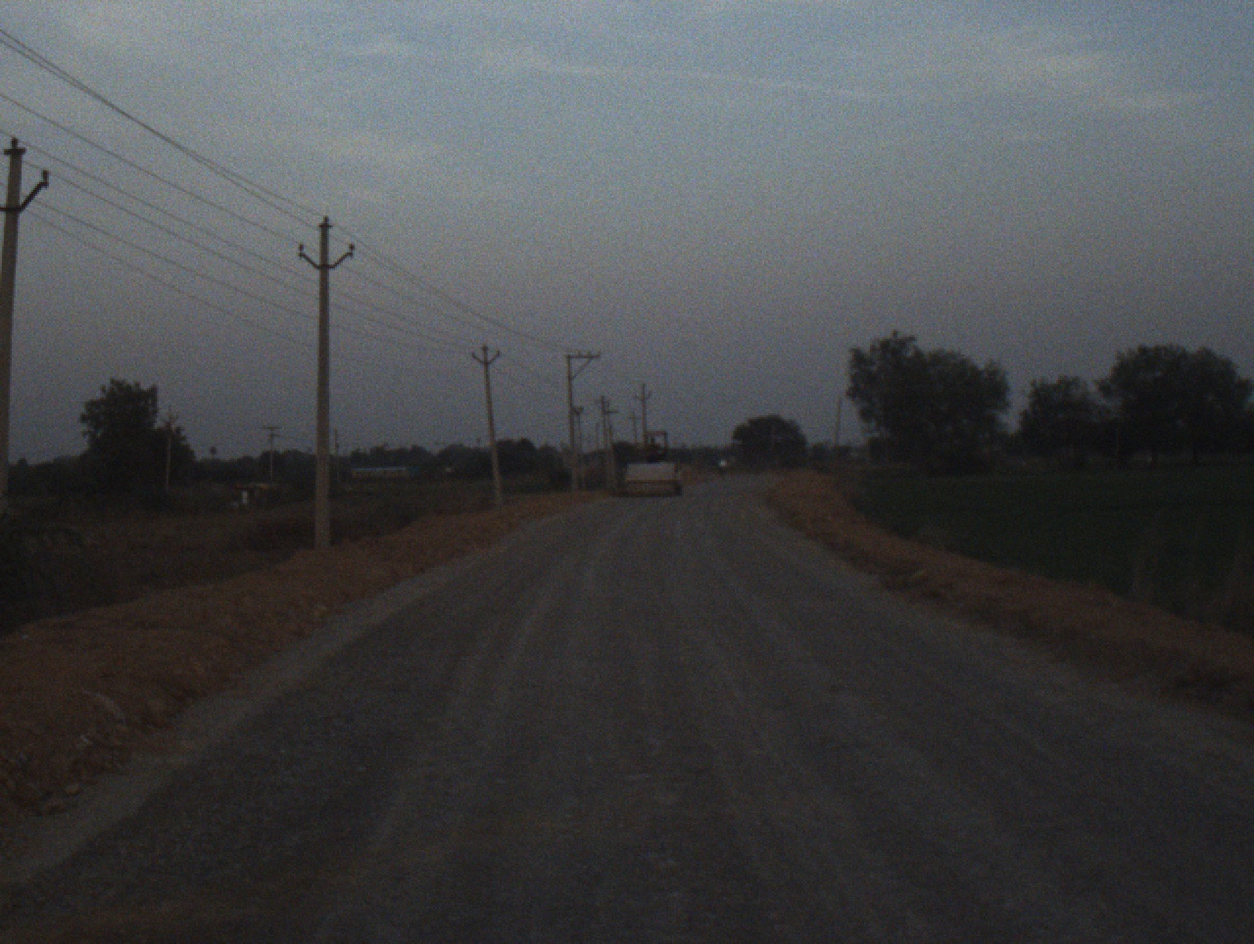vehicle fallback: (617, 422, 693, 500)
